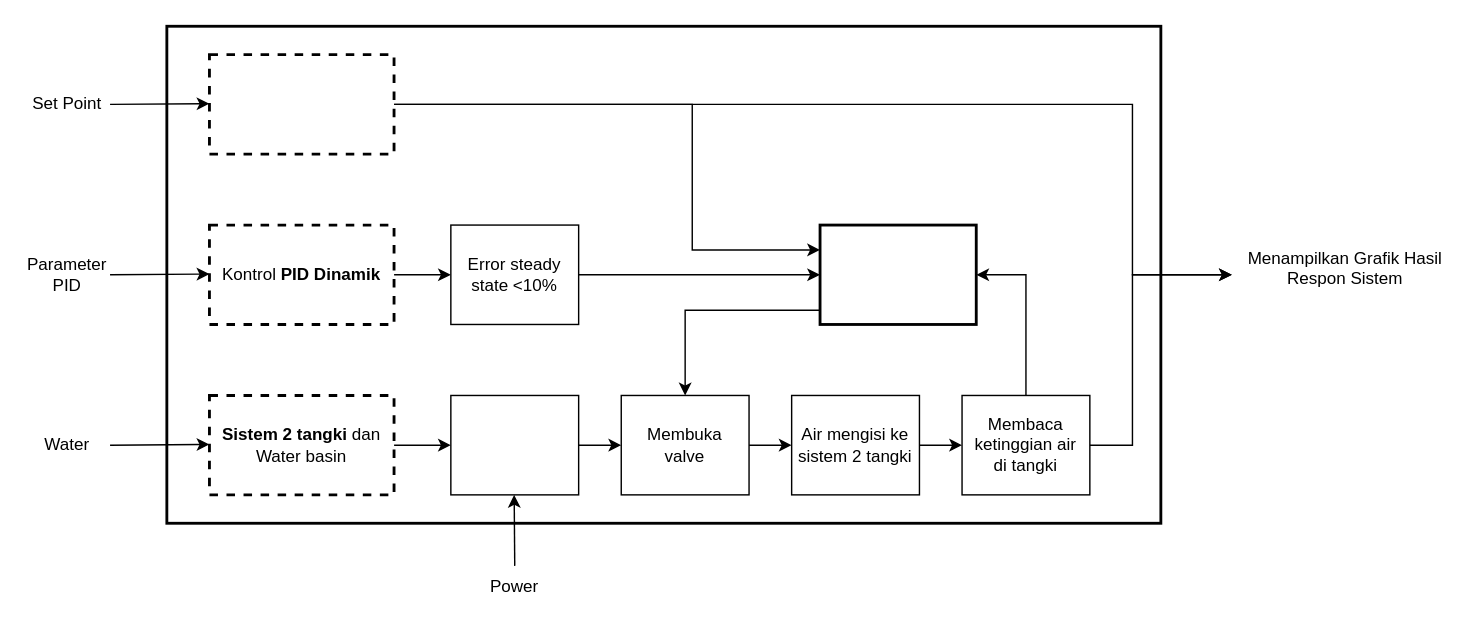
This 1482x632 diagram has some shape labels left out. Each missing label, with the centre of its shape:
GUI untuk monitoring dan controlling: (x=301, y=104)
Memompa air: (x=514, y=444)
Mikrokontroler memproses & menentukan bukaan valve: (x=897, y=274)
